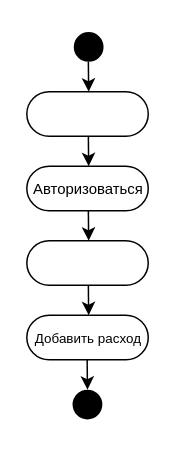
Image size: 174x450. Some labels were removed from this diagram. Each missing label, with the centre of its shape:
"Открыть приложение" belongs at point (86, 113).
"Перейти на главную страницу" belongs at point (86, 262).
